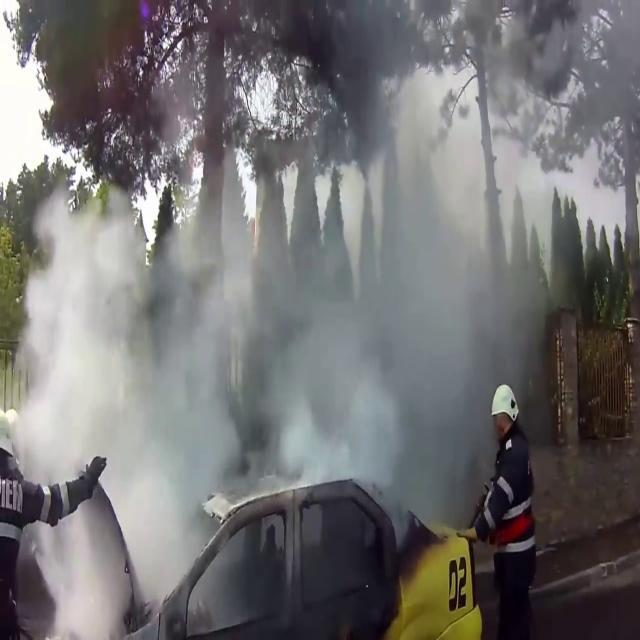Smoke: (0, 0, 571, 547)
